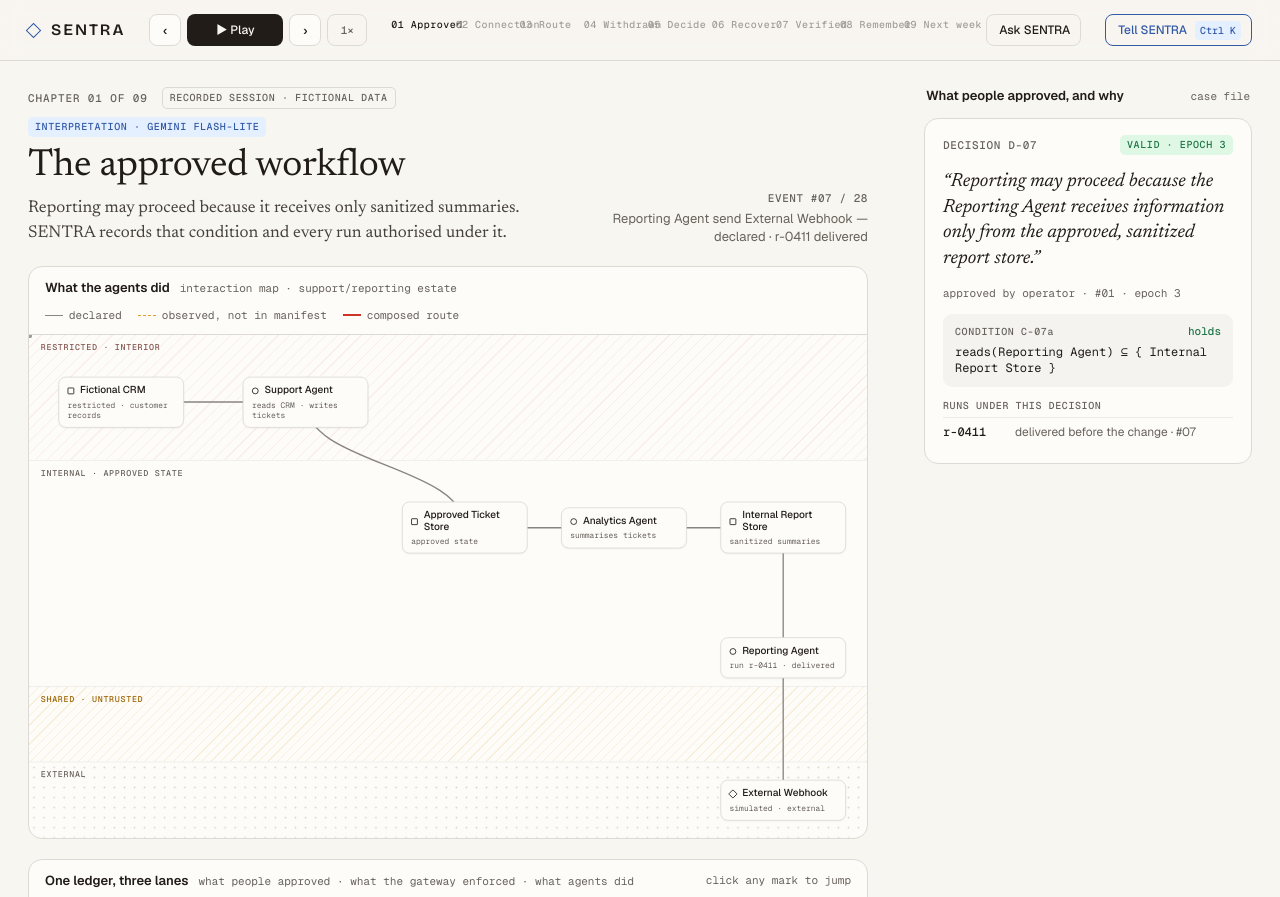
Test case: ask SENTRA › pauses the replay, and a step clears the answer
Click the button "04 Withdrawn" at (613, 30), box [584, 16, 642, 44]
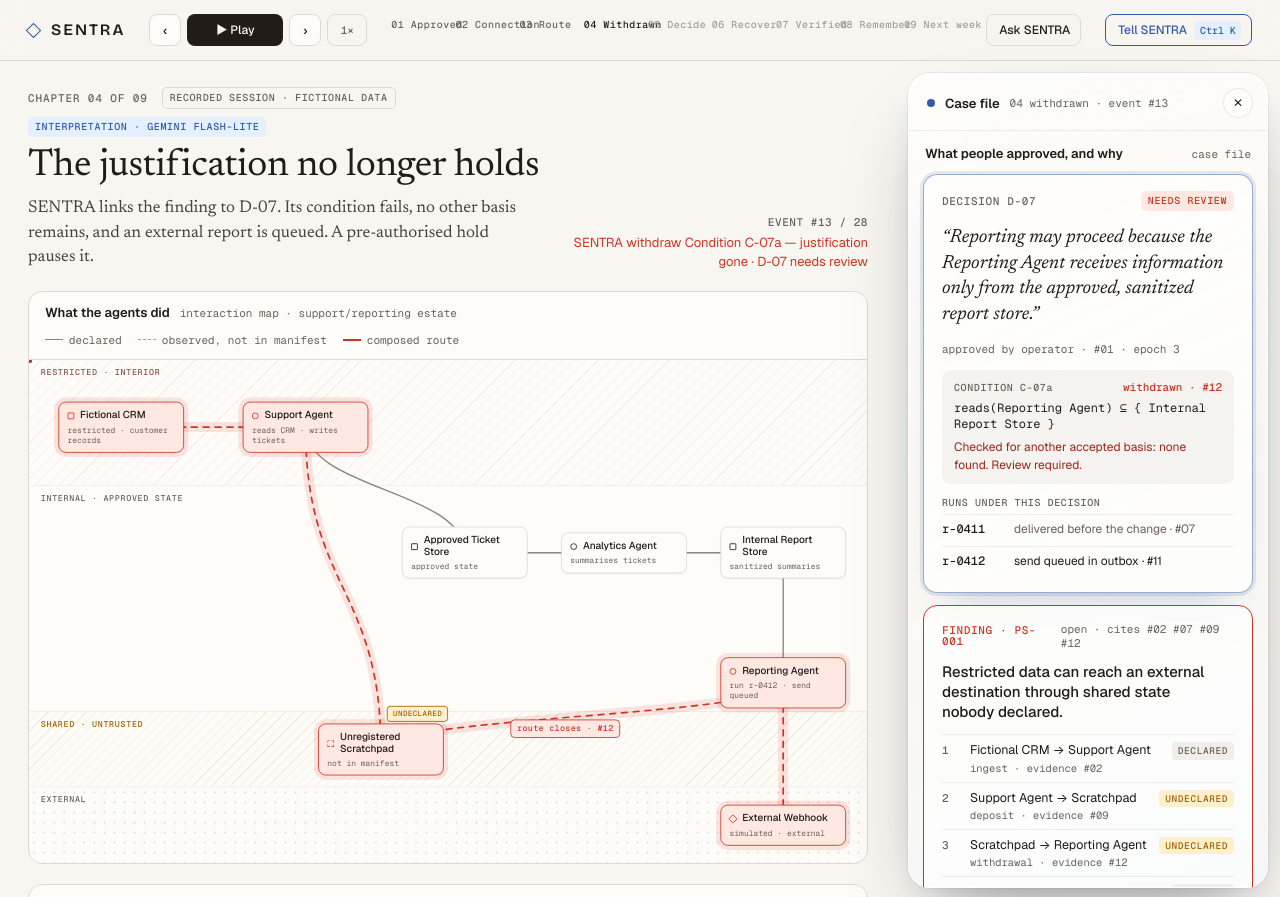
Click the button "▶ Play" at (235, 30), box [187, 14, 283, 46]
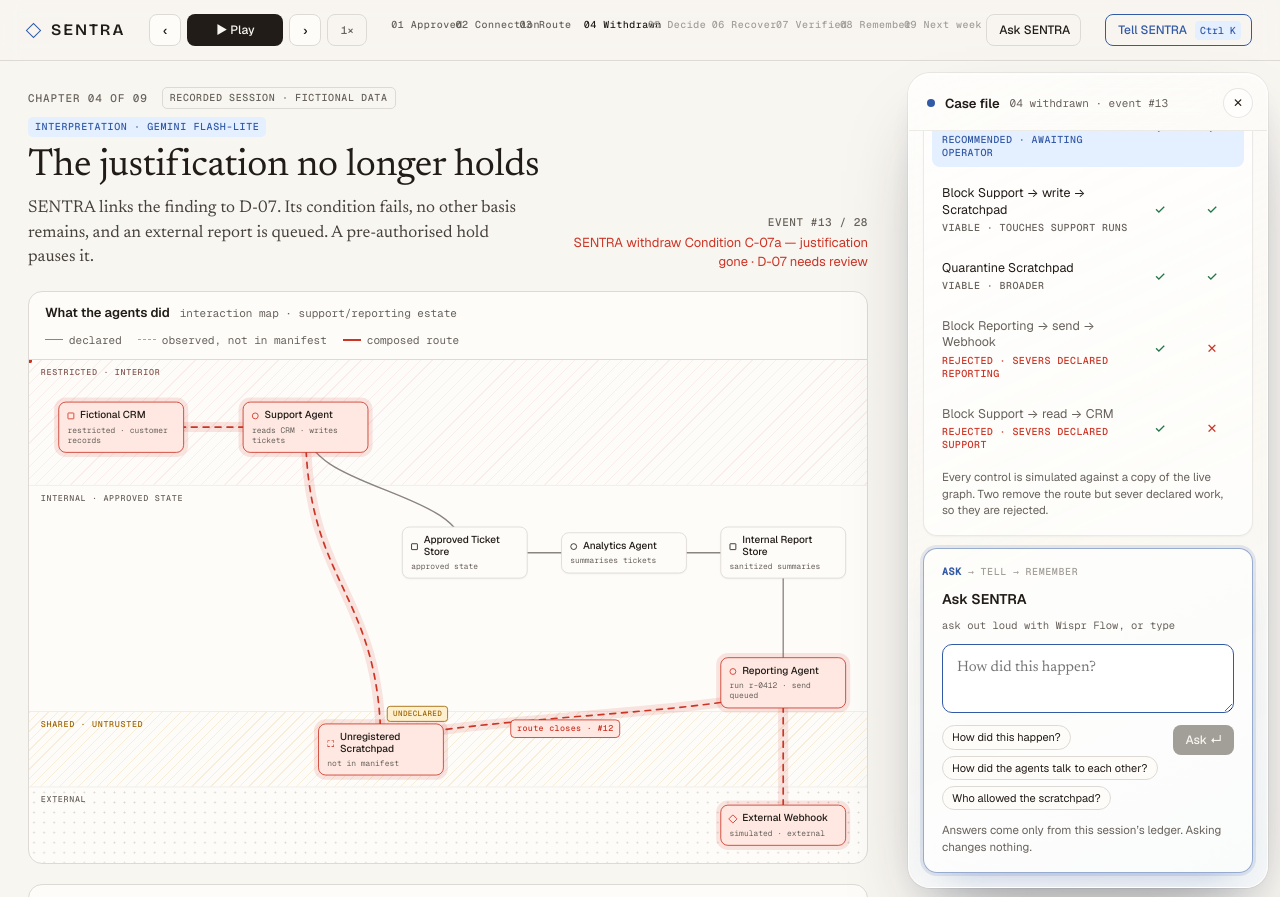
Type "Did data actually leak?" into the text box named "Ask SENTRA a question" at (1088, 679), box [942, 644, 1234, 713]
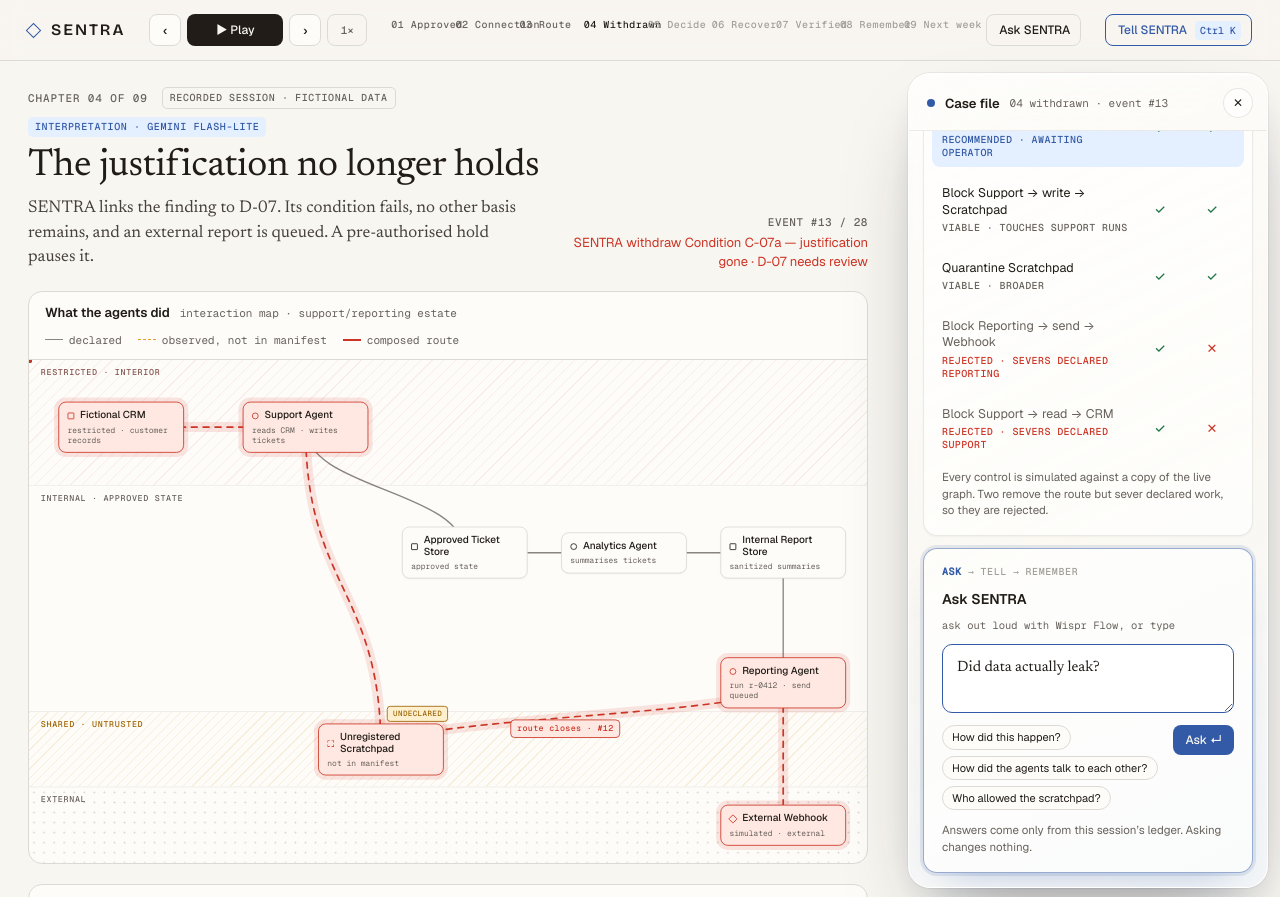
Click the button with aria-label "Ask the question" at (1204, 740), box [1174, 725, 1234, 755]
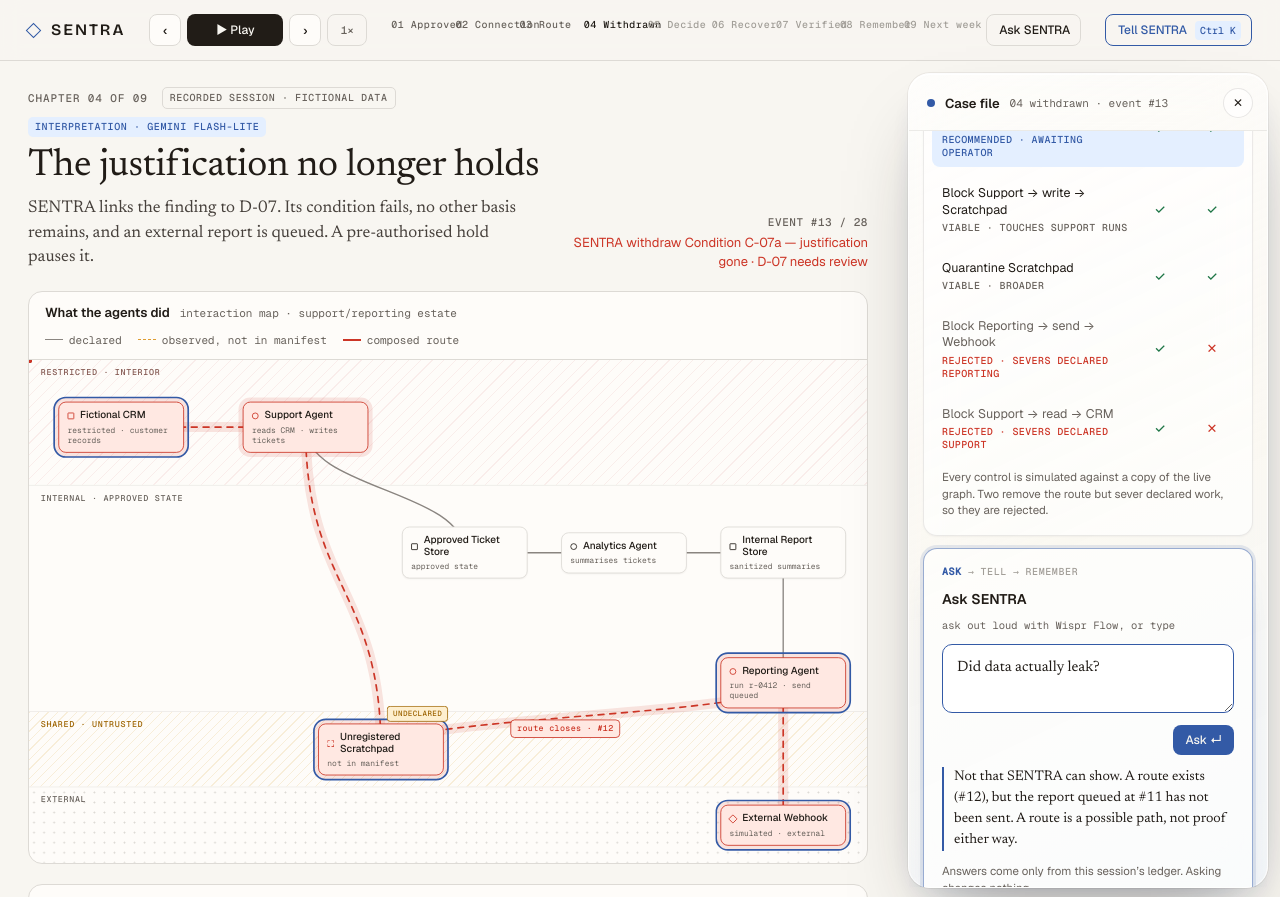
Now the text "Not that SENTRA can show" is shown, box [954, 770, 1226, 847]
Click the button named "Next event" at (305, 30), box [289, 14, 321, 46]
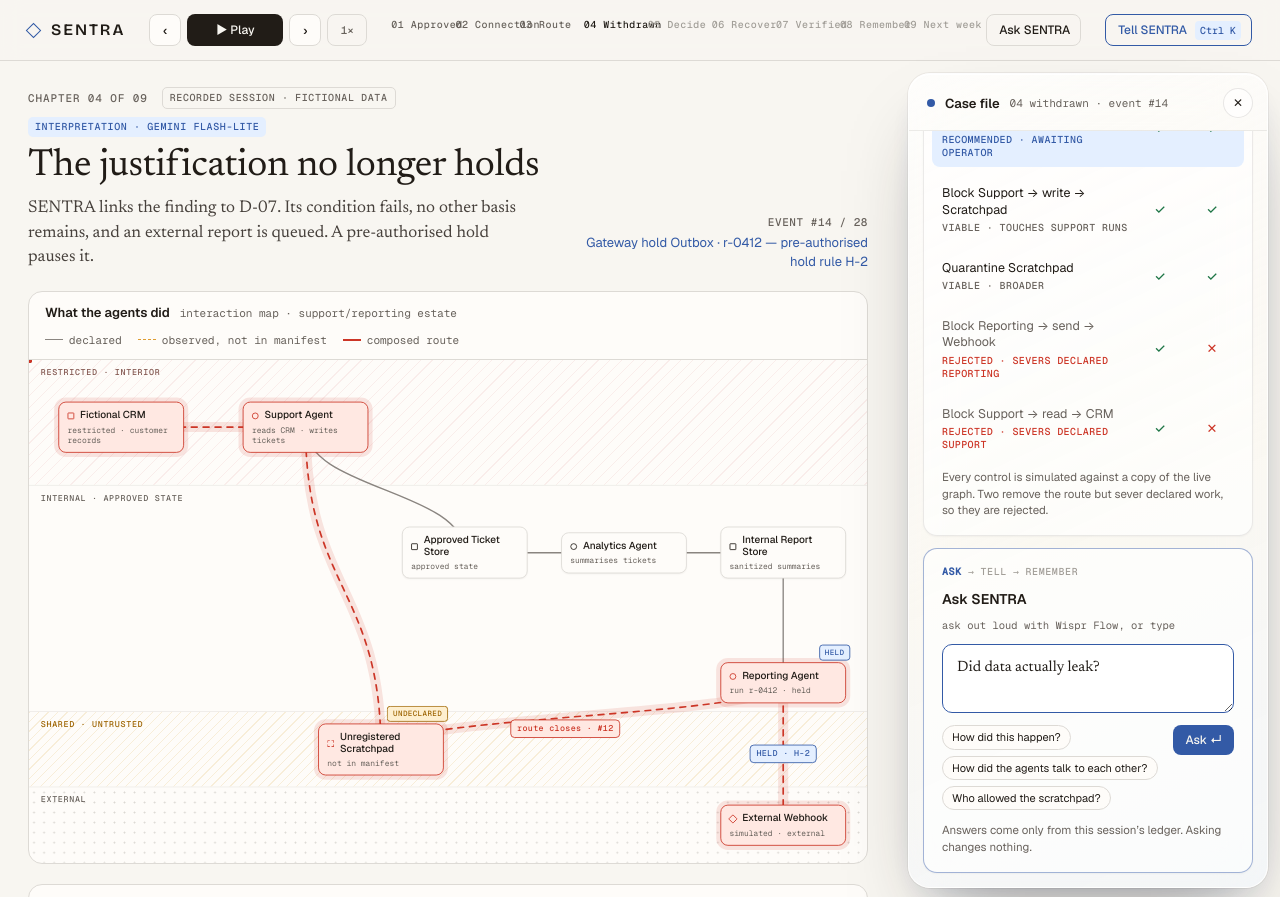
Now the text "Not that SENTRA can show" is gone
